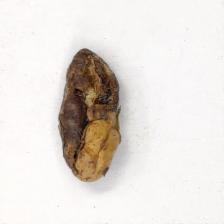NG: (59, 48, 119, 183)
